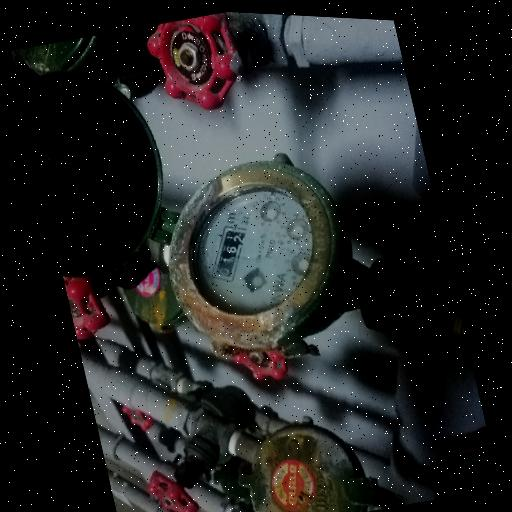0: (213, 261, 236, 282)
1: (222, 225, 249, 250), (216, 249, 239, 271)
6: (219, 237, 241, 259)
border_water_meter_number: (200, 216, 259, 289)
